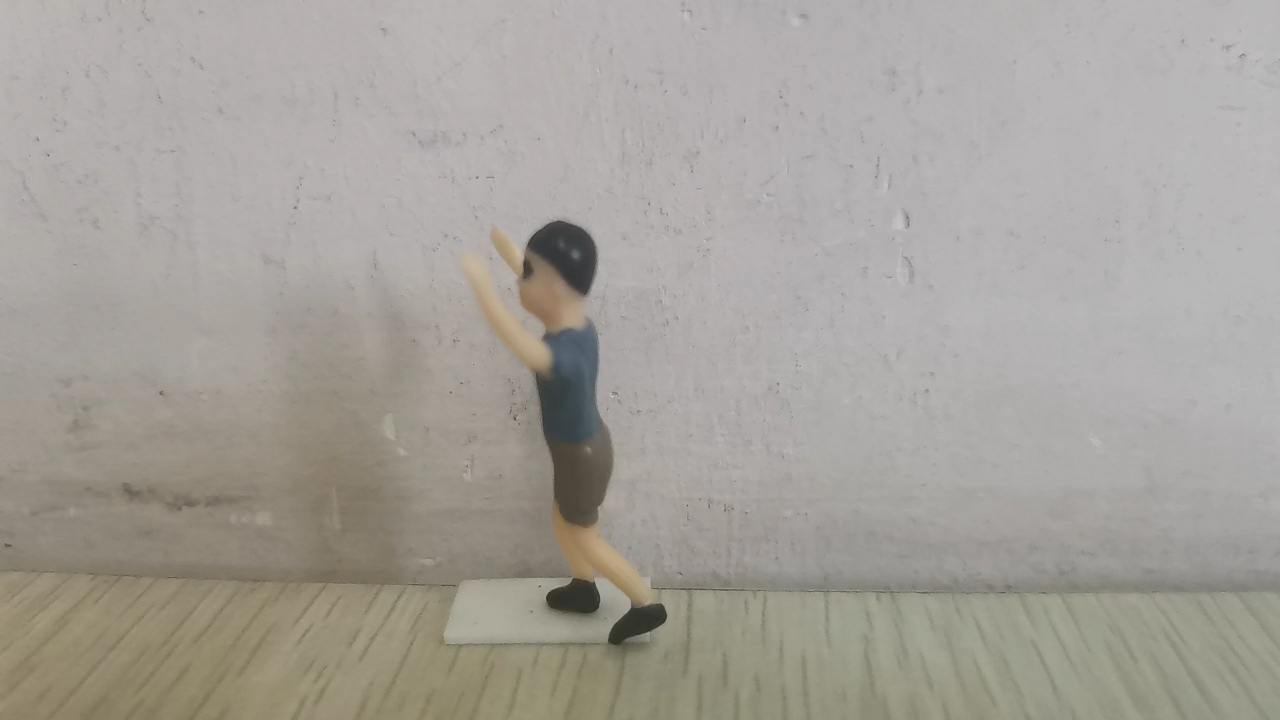person: (454, 216, 670, 648)
